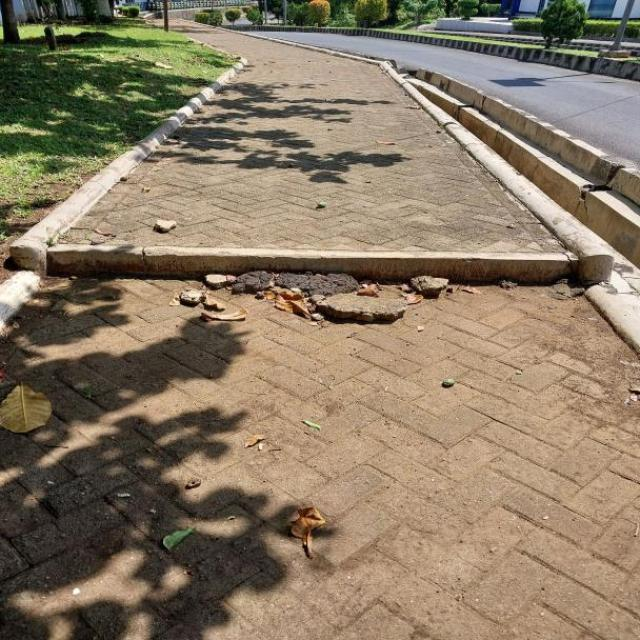stones ahead at: (164, 262, 468, 338)
